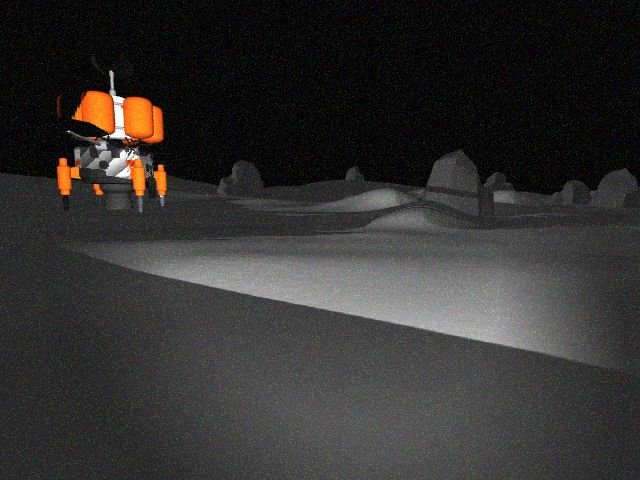homebase: (41, 46, 178, 219)
